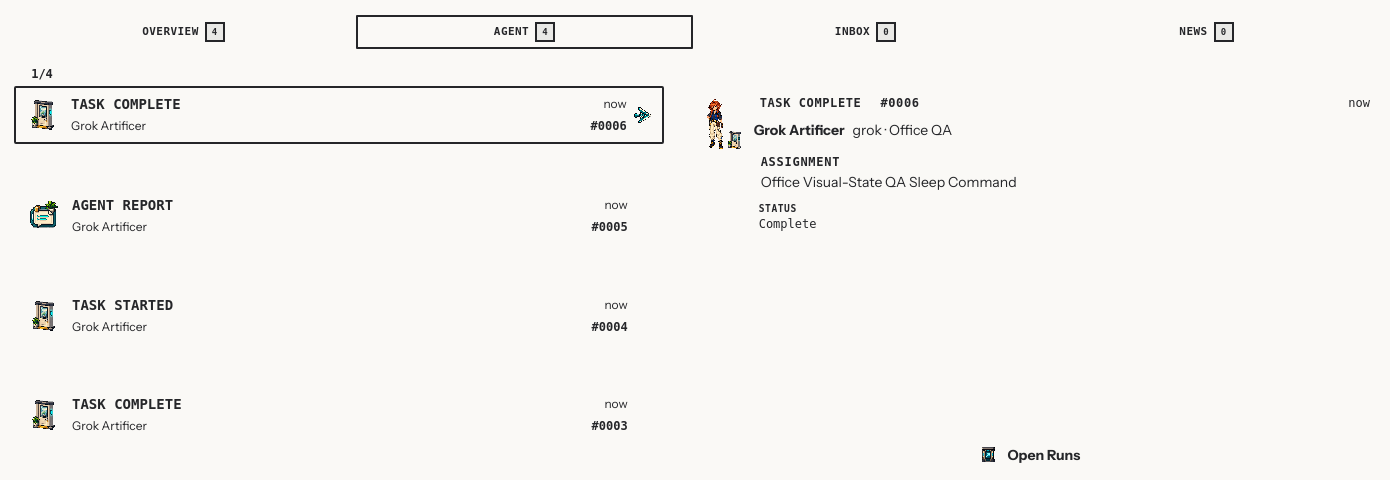
Scenario: OfficeRuntimeSection › shows the current assignment only on events from the actor current run
expect the button "Task complete now Grok Artificer #0006" is shown: met, box [14,86,664,144]
expect the text "Office Visual-State QA Sleep Command" is shown: met, box [761,173,1017,191]
Click the button "Agent report now Grok Artificer #0005".
click(43, 216)  # box [15,187,665,245]
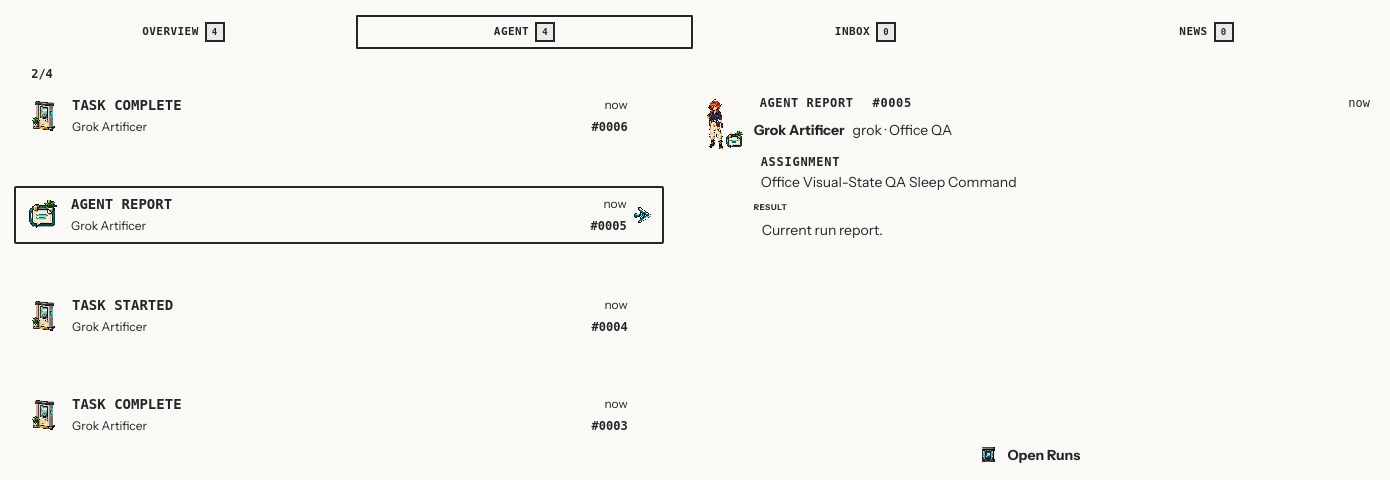
expect the text "Office Visual-State QA Sleep Command" is shown: met, box [761,173,1017,191]
Click the button "Task complete now Grok Artificer #0003".
click(43, 415)  # box [15,386,665,444]
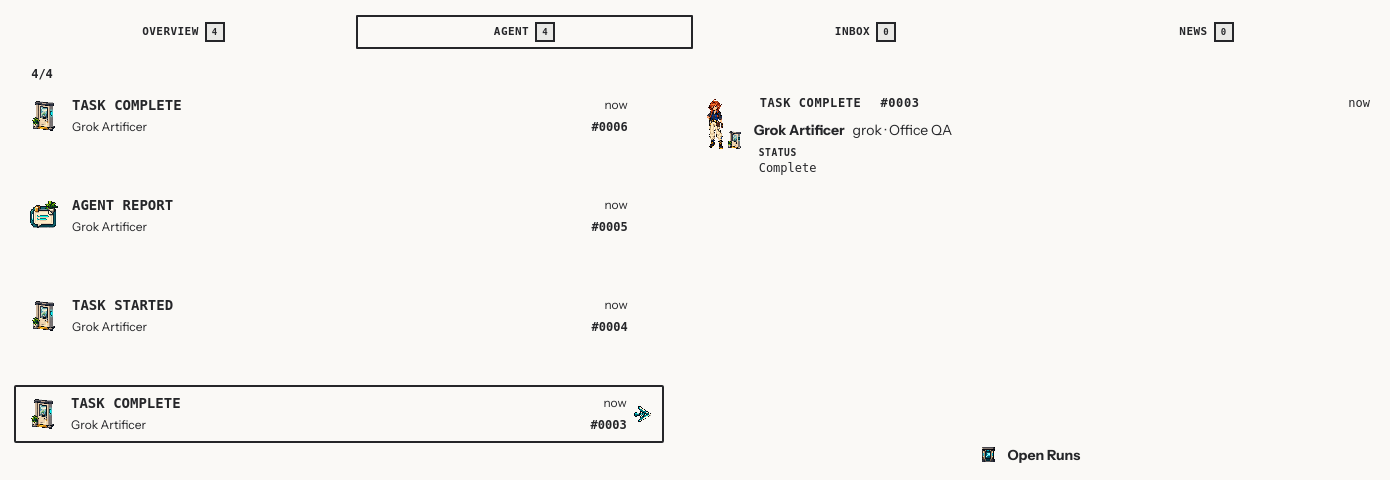
expect the text "Office Visual-State QA Sleep Command" is gone: met
expect the text "Assignment" is gone: met
